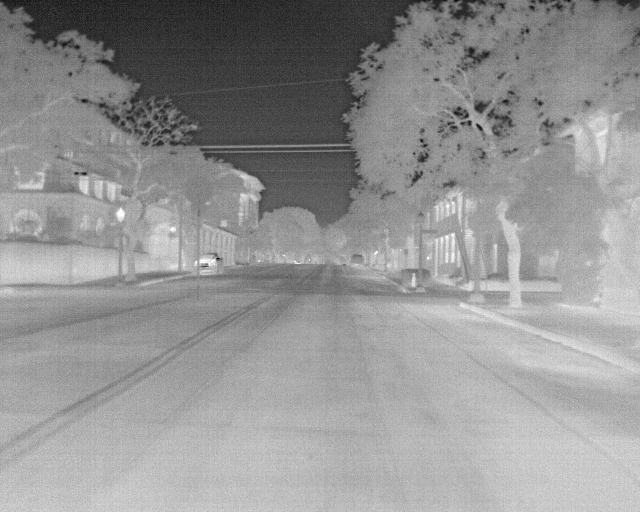car: (191, 251, 222, 272), (349, 252, 365, 269)
